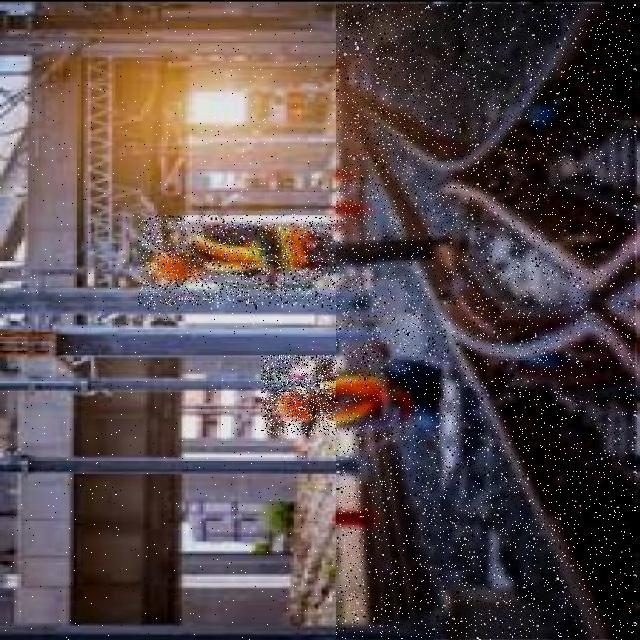rail: (338, 6, 636, 640)
